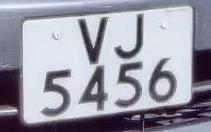4: (75, 63, 113, 114)
5: (34, 65, 79, 117), (112, 59, 147, 110)
6: (147, 52, 181, 105)
J: (106, 9, 150, 64)
V: (72, 13, 114, 67)
